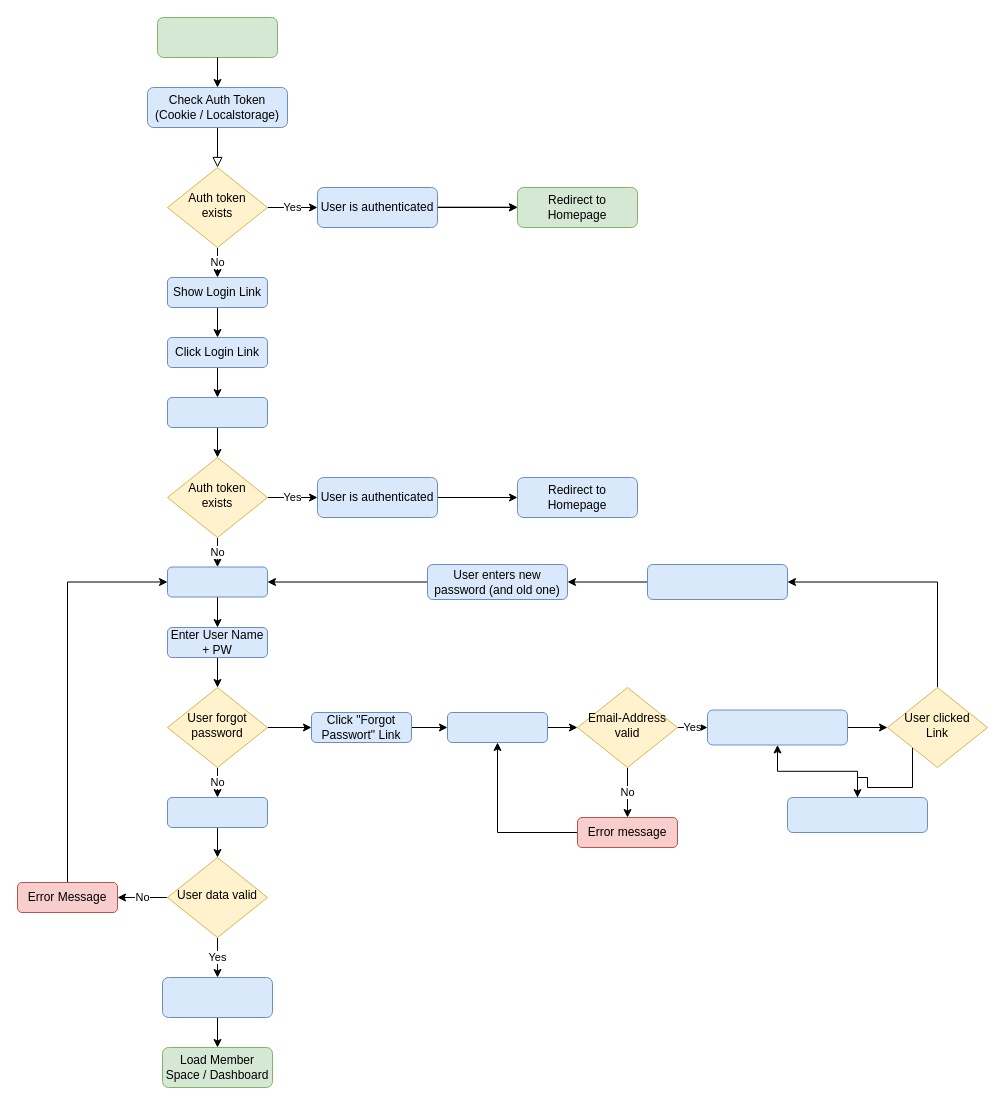
The diagram is 1005 pixels wide and 1105 high, and some of its shapes have lost their labels. Here are the shapes that lost their labels. From the top down, the centre of each, then its label:
pixel 217 37: Page loads
pixel 217 412: Check Auth Token
pixel 217 581: Load Login Page
pixel 717 582: Load Reset Password Page
pixel 497 727: Enter valid E-Mail Address
pixel 777 727: Send E-Mail with Lost Password Link
pixel 217 812: Validate User Data
pixel 857 814: Send Reminder after x time
pixel 217 997: Set Auth Token
